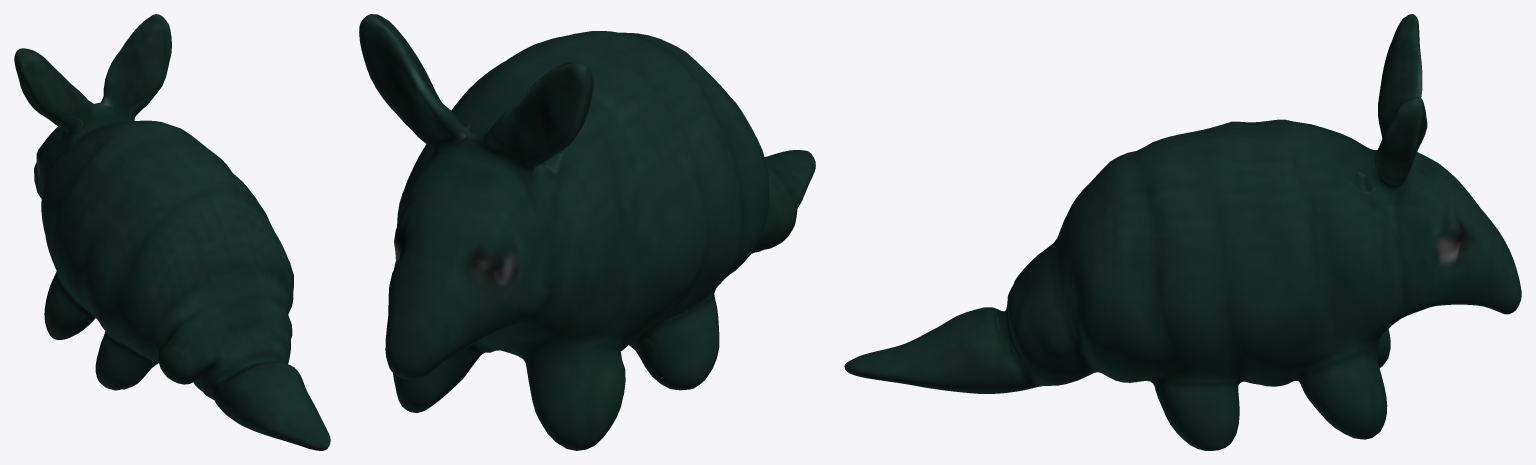
File: armadillo.glb
3 renders of one model, left to right at view 1: azimuth 30°, elevation 25°; view 2: azimuth 150°, elevation 25°; view 3: azimuth 270°, elevation 25°, orthographic. The views are drawn at different scales.
Visible parts, largest first — view 1: mesh; view 2: mesh; view 3: mesh.
Boxes of the visible parts, box(x1,y1,x2,y2) form: mesh: box(14, 14, 330, 450); mesh: box(359, 14, 815, 450); mesh: box(844, 14, 1521, 450).
Size of the model in its own units: 0.3815 by 0.5638 by 0.9977.
Materials: 1 (1 with a texture image).
